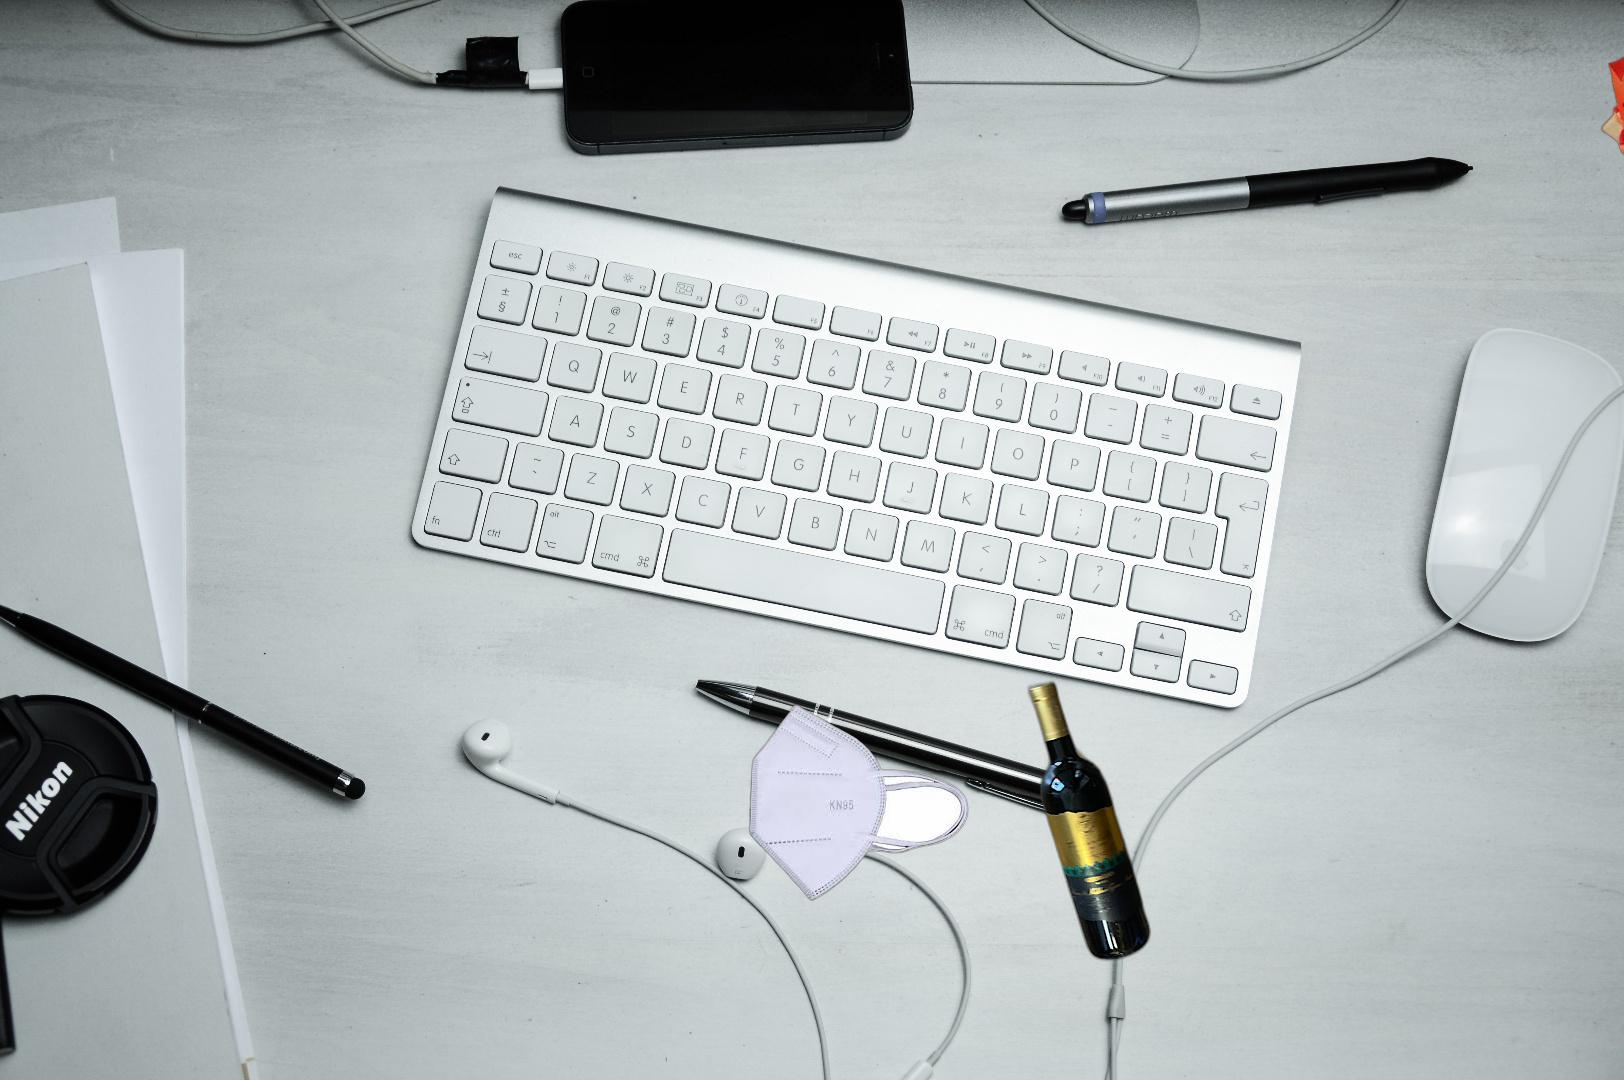glass: (1024, 677, 1154, 965)
paper-bag: (1599, 25, 1624, 199)
trash: (746, 702, 971, 903)
